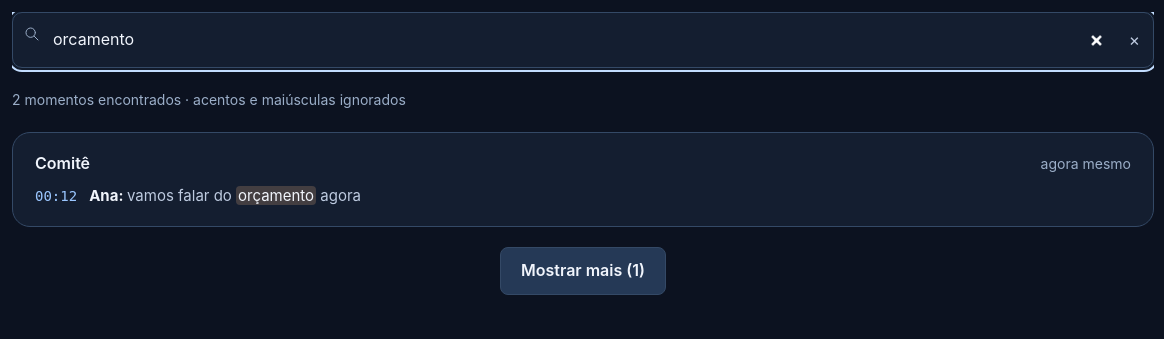
Scenario: lists moments with speaker, highlight and deep links, and loads more
Expected: the text "2 momentos encontrados · acentos e maiúsculas ignorados" is shown, [12, 91, 406, 108]
Click the button "Mostrar mais (1)" at point(583, 271), box [500, 247, 666, 295]
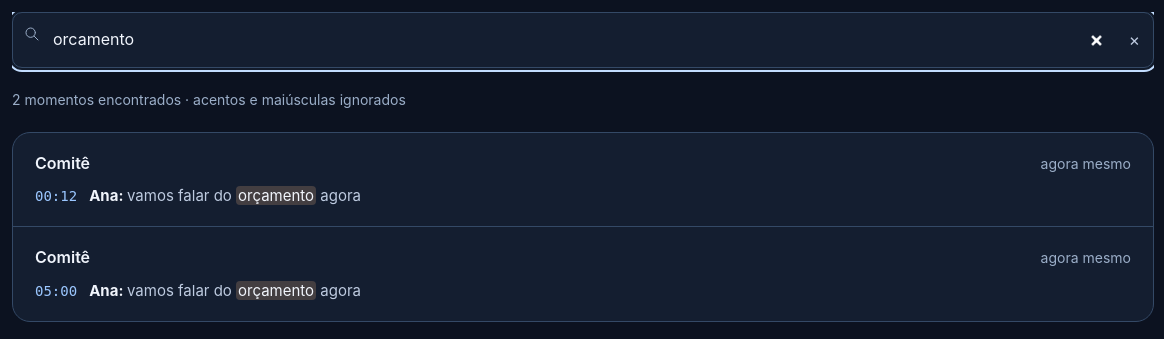
Expected: the button "Mostrar mais" is gone
